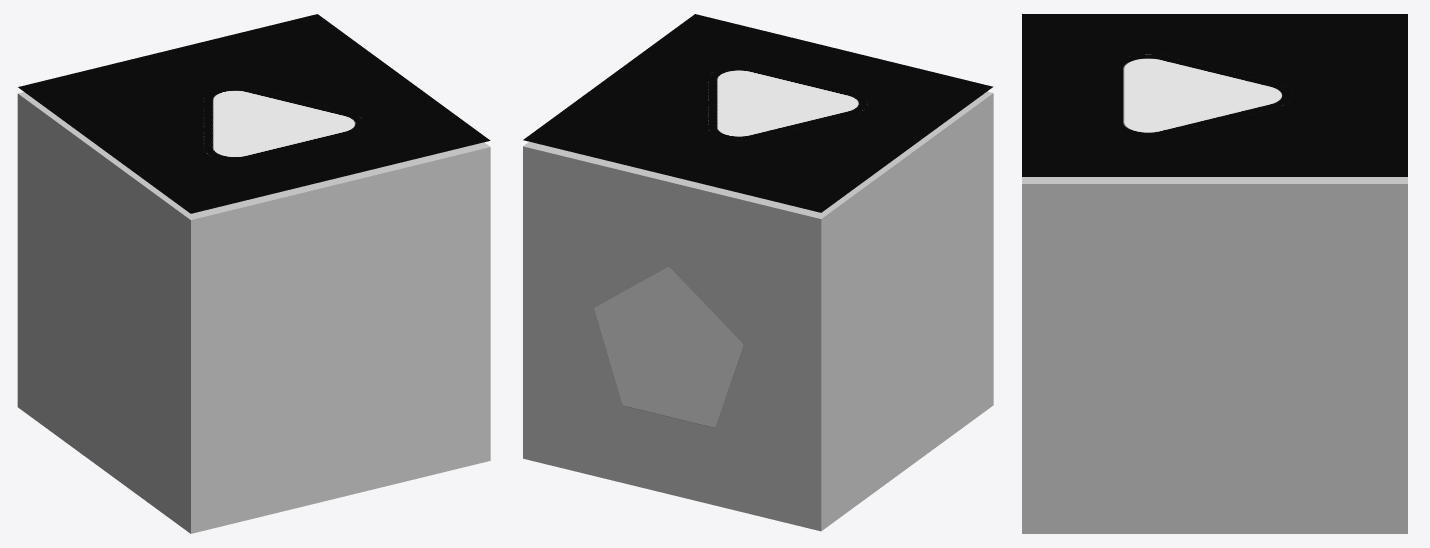
Rendered from transistor.obj.
3 views of the same model, side by side, from view 1: azimuth 30°, elevation 25°; view 2: azimuth 150°, elevation 25°; view 3: azimuth 270°, elevation 25° (orthographic). The views are drawn at different scales.
Parts seen in each view (by area): view 1: Transistor1, Transistor4, Transistor3; view 2: Transistor1, Transistor4, Transistor2, Transistor3; view 3: Transistor1, Transistor4, Transistor3.
Part boxes in pixels (x1,y1,x2,y2): Transistor1: [17, 92, 490, 533]; Transistor4: [18, 14, 490, 213]; Transistor3: [203, 86, 364, 160]; Transistor1: [523, 91, 993, 531]; Transistor4: [523, 14, 993, 212]; Transistor2: [594, 266, 743, 427]; Transistor3: [708, 66, 867, 140]; Transistor1: [1022, 177, 1407, 533]; Transistor4: [1022, 14, 1407, 176]; Transistor3: [1113, 54, 1292, 136].
Size of the model in its own units: 1 by 1.02 by 1.02.
Materials: 4 (3 with a texture image).
